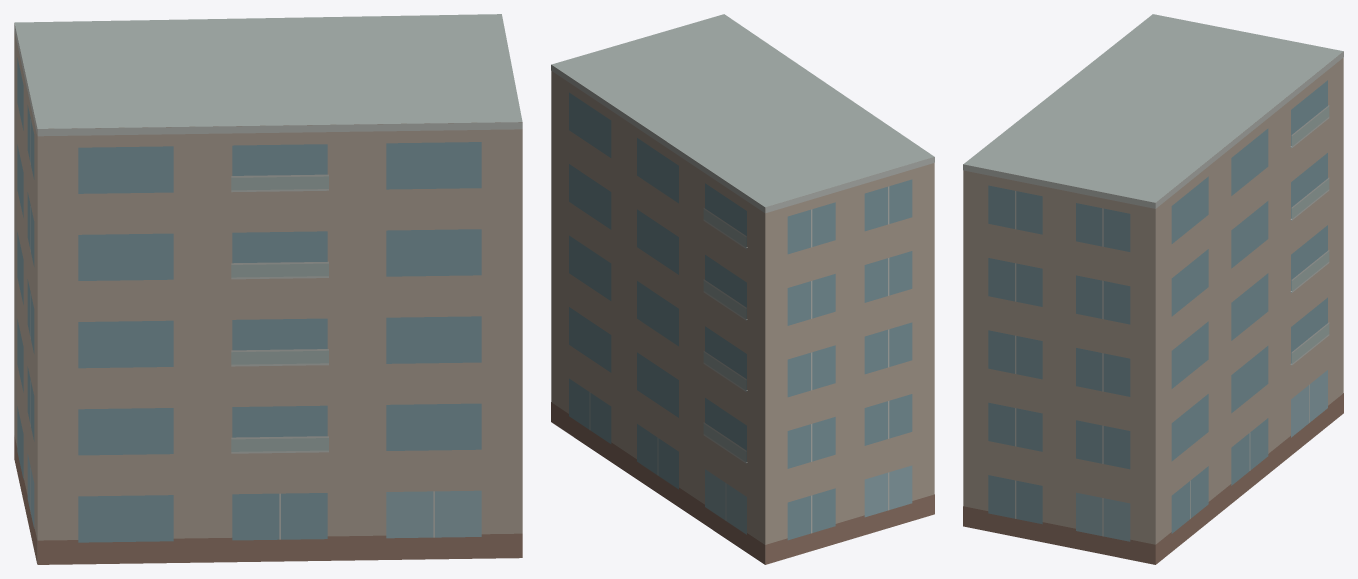
File: survey-upis-33018334.glb
3 views of the same model, side by side, from view 1: azimuth 30°, elevation 25°; view 2: azimuth 150°, elevation 25°; view 3: azimuth 270°, elevation 25° (orthographic). The views are drawn at different scales.
Visible parts, largest first — view 1: survey-upis-33018334.tmp; view 2: survey-upis-33018334.tmp; view 3: survey-upis-33018334.tmp.
Boxes of the visible parts, x1,y1,x2,y2 form: survey-upis-33018334.tmp: [14, 14, 522, 564]; survey-upis-33018334.tmp: [551, 14, 934, 564]; survey-upis-33018334.tmp: [963, 14, 1343, 564].
Size of the model in its own units: 16.29 by 14.55 by 13.87.
